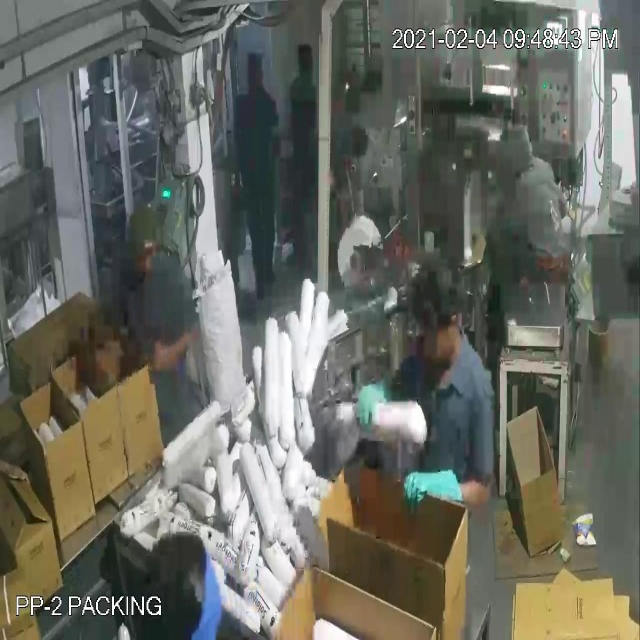Guantes: (392, 455, 473, 522), (338, 367, 408, 440)
Sin_guantes: (146, 312, 207, 372)
